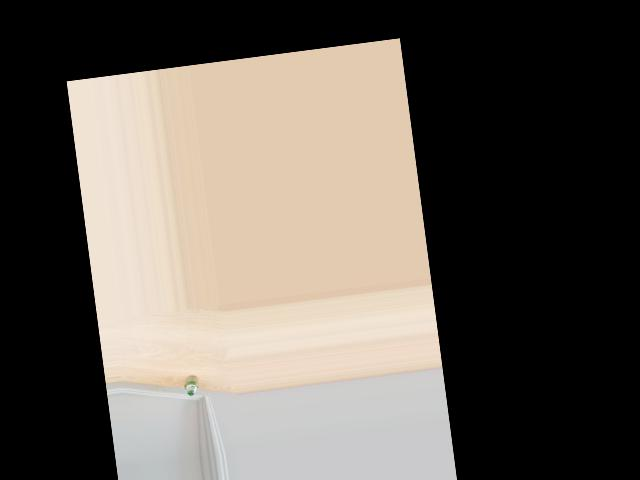beer: (183, 374, 199, 396)
